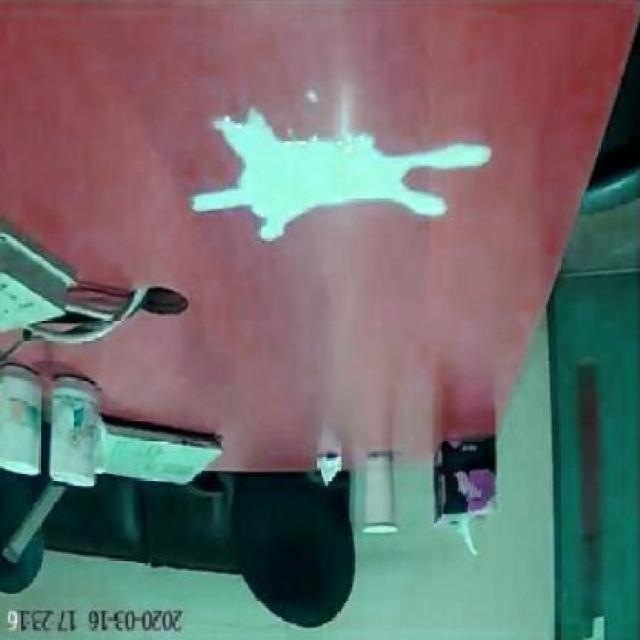spillage: (189, 102, 493, 240)
